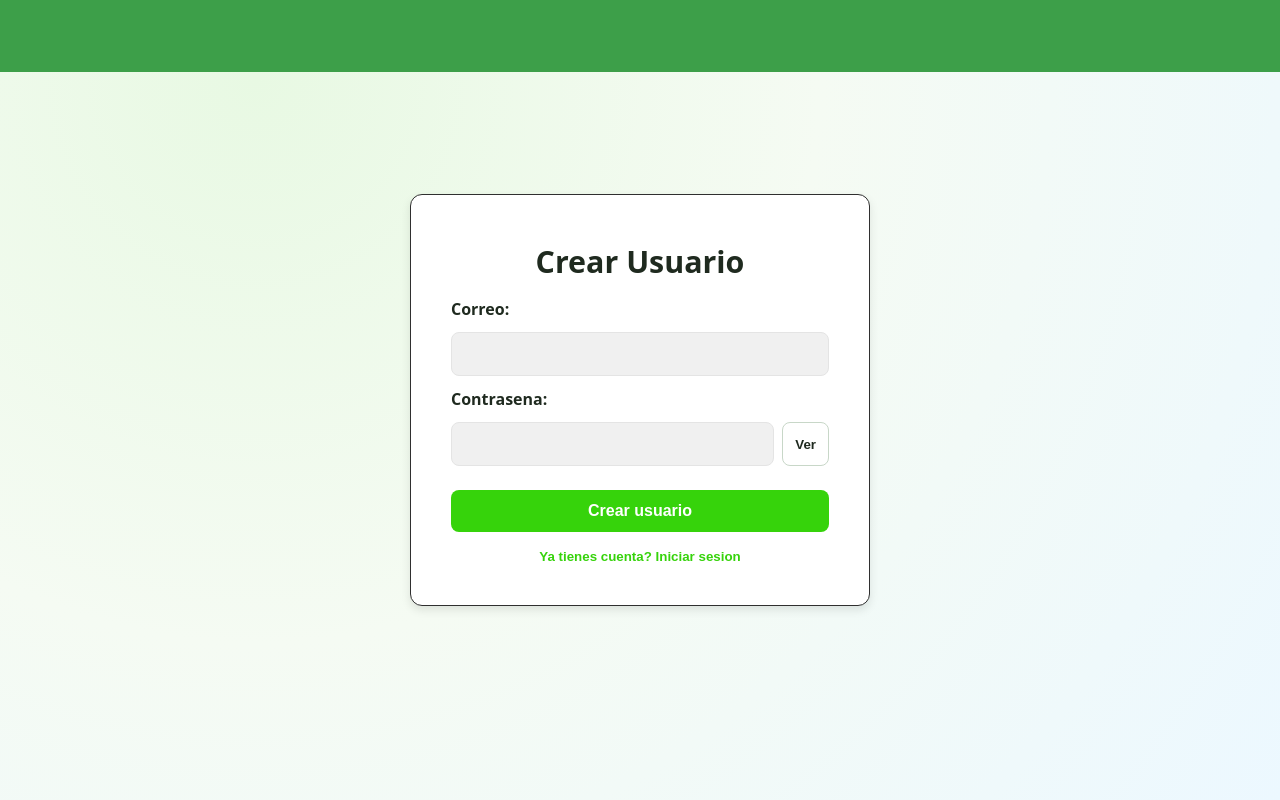
Test: RegisterPage › shows password policy error on invalid password
This screenshot has width=1280, height=800.
In the field labelled "Correo:": (640, 354) [451,332,829,376], type "user@example.com"
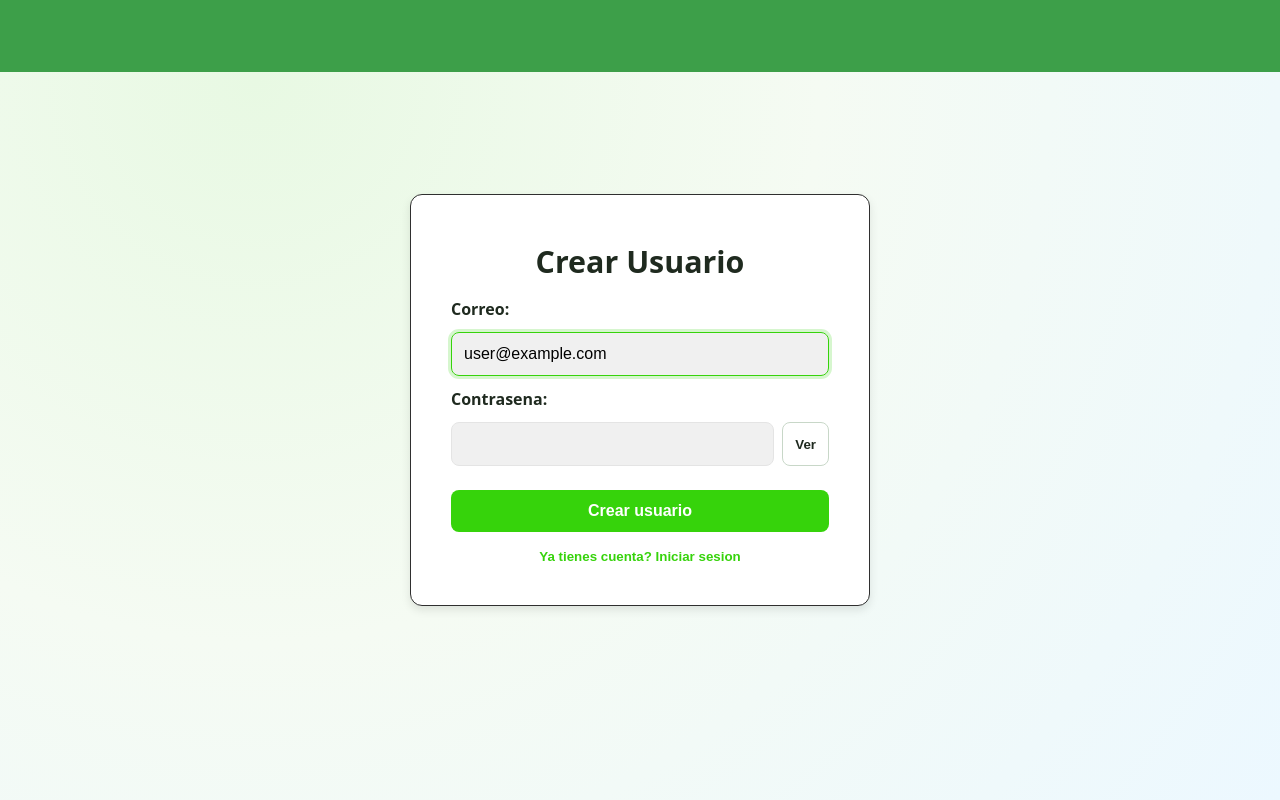
In the password field labelled "Contrasena:": (613, 444) [451,422,774,466], type "short"
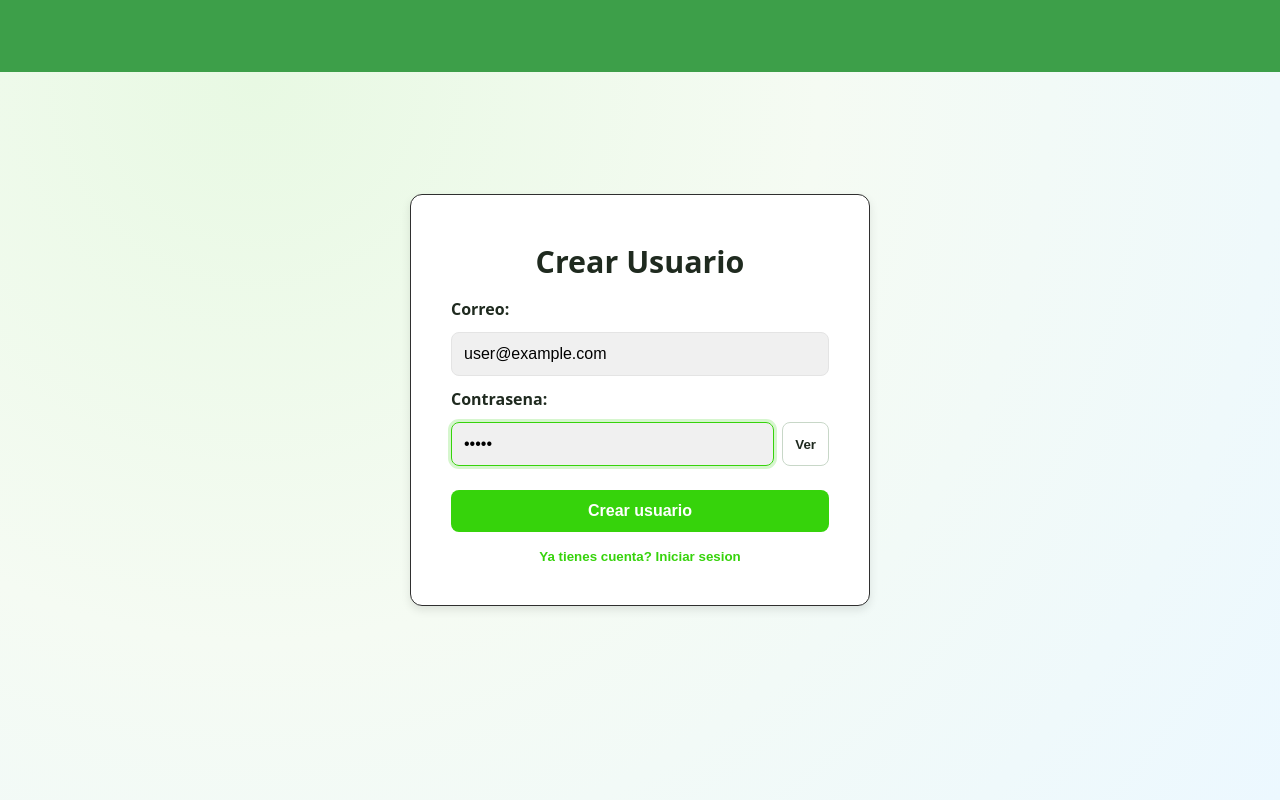
Click the button "Crear usuario": (640, 511) [451,490,829,532]
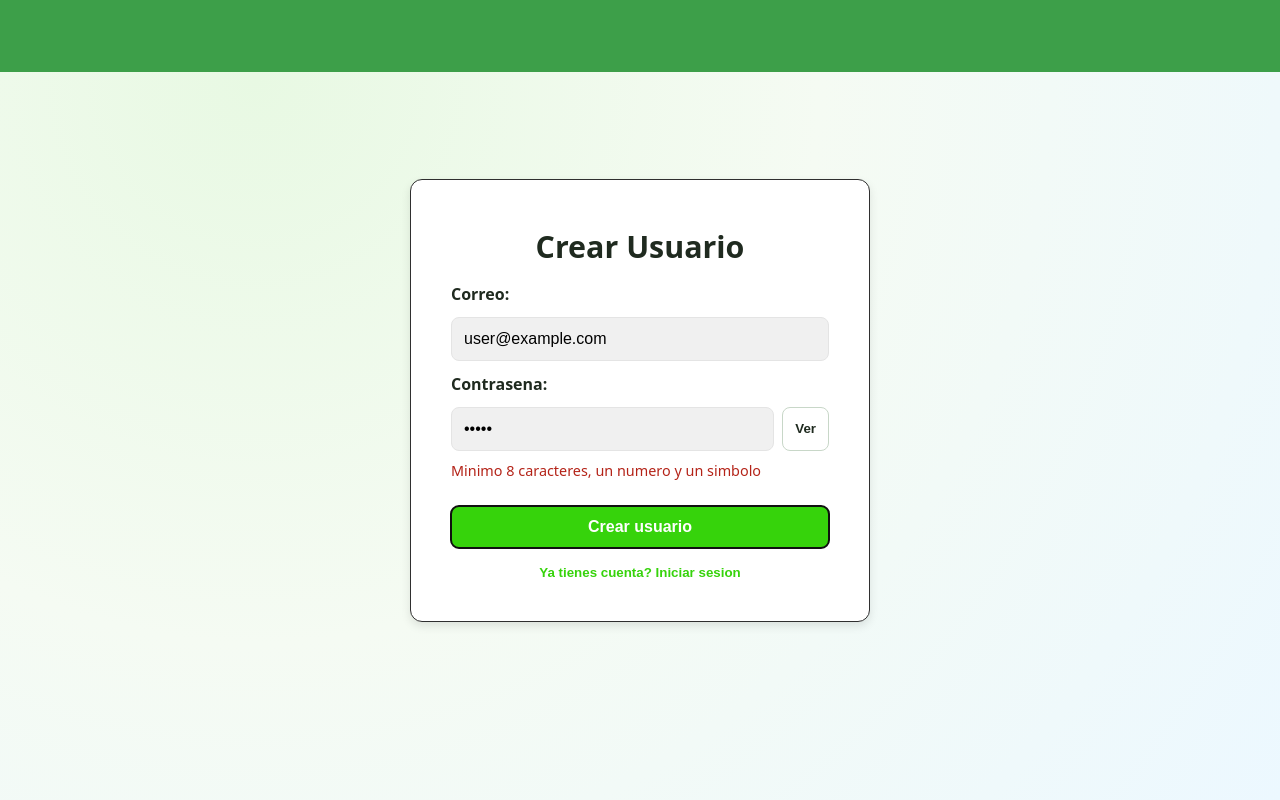
Now the text "Minimo 8 caracteres, un numero y un simbolo" is shown, box [451,460,761,480]
